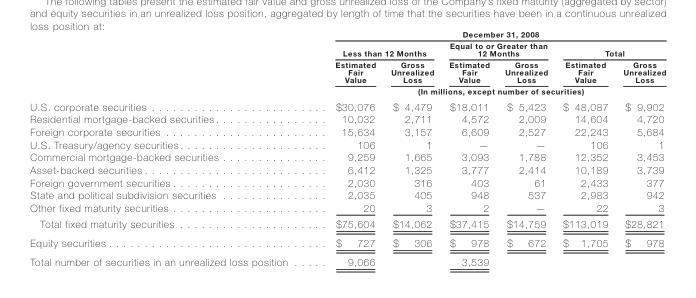table: (29, 29, 665, 267)
table column: (29, 29, 310, 267), (310, 29, 382, 267), (554, 29, 614, 267), (382, 29, 440, 267), (496, 29, 554, 267), (440, 29, 496, 267), (614, 29, 665, 267)
table column header: (29, 29, 665, 97)
table row: (29, 58, 665, 84), (29, 39, 665, 58), (29, 233, 665, 252), (29, 215, 665, 233), (29, 97, 665, 112), (29, 200, 665, 215), (29, 252, 665, 267), (29, 84, 665, 97), (29, 112, 665, 125), (29, 137, 665, 150), (29, 150, 665, 163), (29, 175, 665, 188), (29, 125, 665, 137), (29, 163, 665, 175), (29, 188, 665, 200), (29, 29, 665, 39)
table spanning cell: (310, 84, 665, 97), (310, 29, 665, 39), (310, 39, 440, 58), (440, 39, 554, 58), (554, 39, 665, 58)
